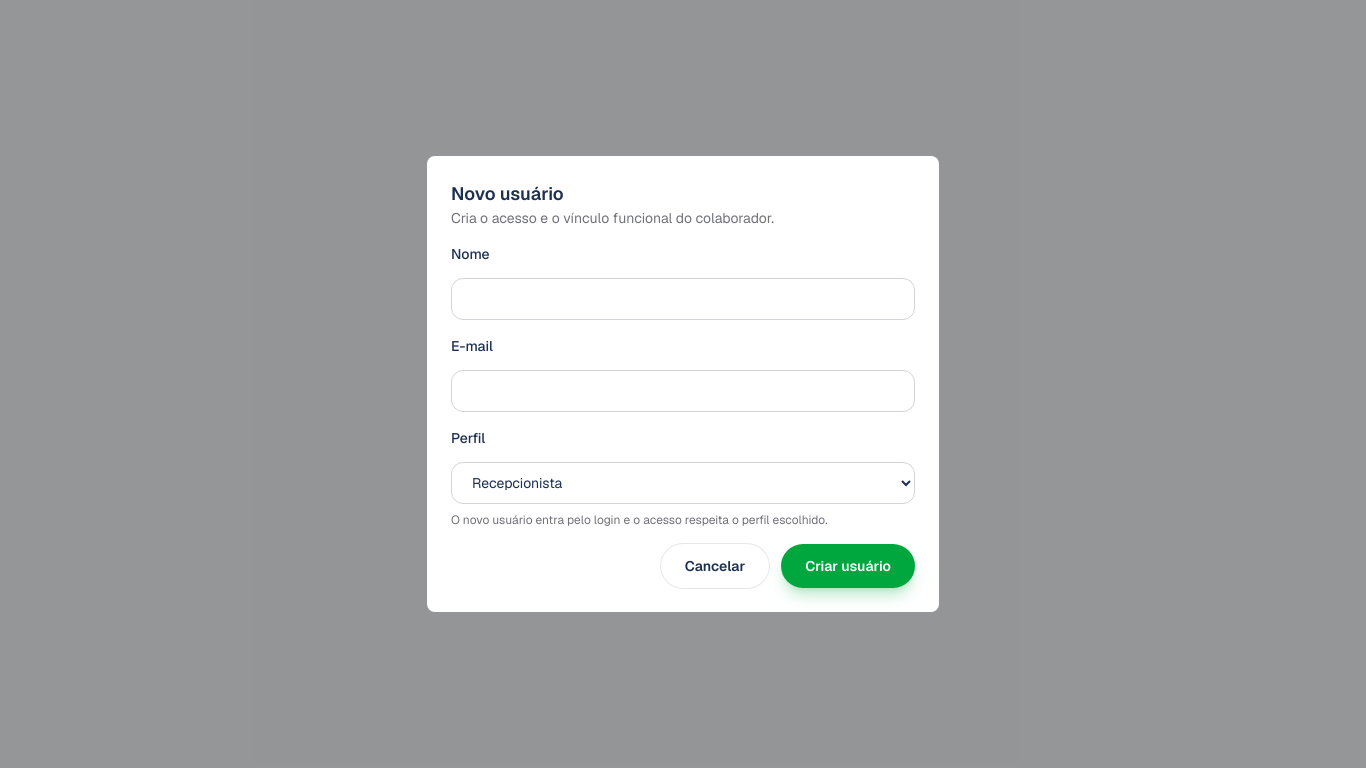
Test: NovoUsuarioForm — envio e feedback › valida no cliente: nome e e-mail obrigatórios bloqueiam o envio
Click the button "Criar usuário". click: (848, 566)
box: [781,544,915,588]
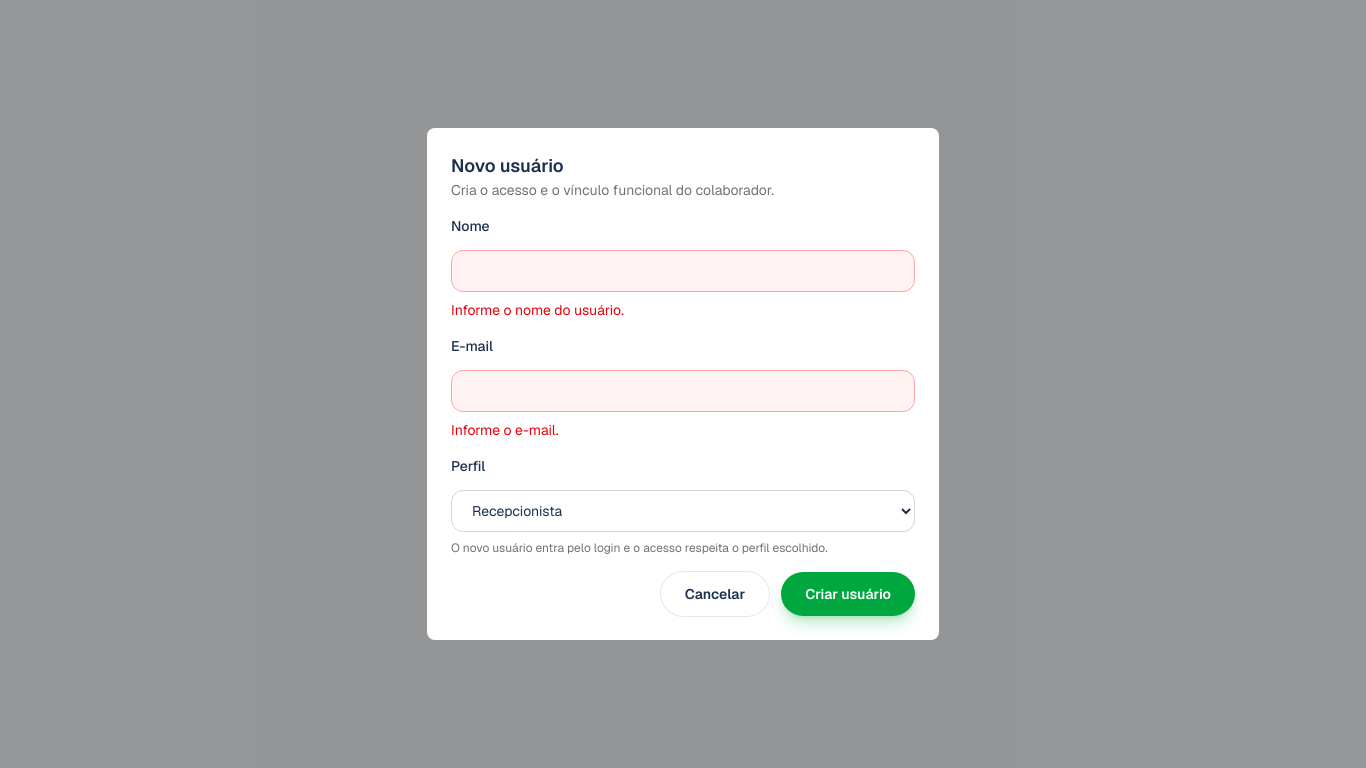
Now the text "Informe o nome do usuário." is shown, box [451,301,624,319]
Now the text "Informe o e-mail." is shown, box [451,421,559,439]
